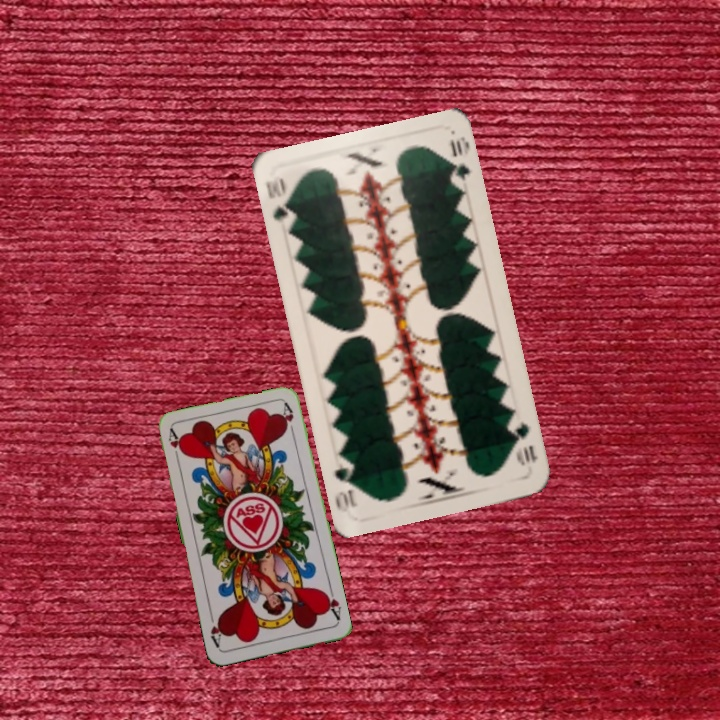G10: (262, 171, 297, 229), (507, 418, 540, 468)
HA: (319, 584, 343, 623), (164, 426, 185, 466)
